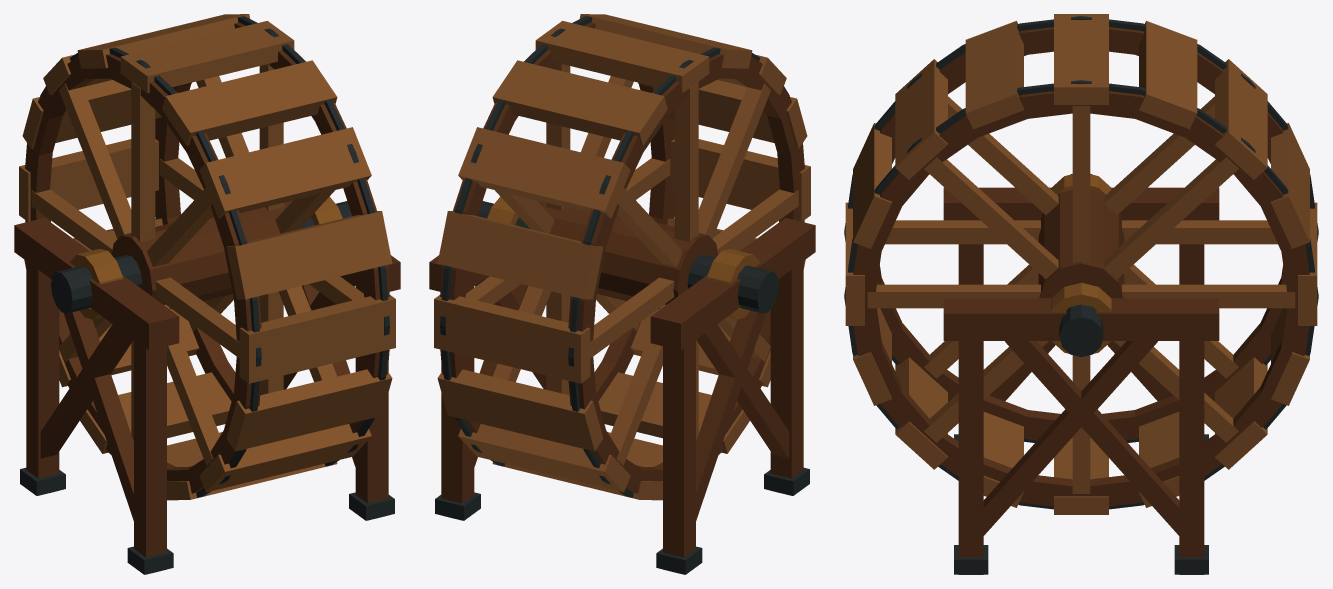
The model's file is vf_water_wheel.obj.
3 views of the same model, side by side, from view 1: azimuth 30°, elevation 25°; view 2: azimuth 150°, elevation 25°; view 3: azimuth 270°, elevation 25° (orthographic). The views are drawn at different scales.
Visible parts, largest first — view 1: Rotor_OakLight, Static_Oak, Rotor_Oak, Rotor_Iron, Static_Iron, Static_Bronze; view 2: Rotor_OakLight, Static_Oak, Rotor_Oak, Rotor_Iron, Static_Iron, Static_Bronze; view 3: Rotor_OakLight, Static_Oak, Rotor_Oak, Rotor_Iron, Static_Bronze, Static_Iron.
Part boxes in pixels (box(x1,y1,x2,y2)): Rotor_OakLight: box(19, 14, 395, 500); Static_Oak: box(14, 200, 400, 574); Rotor_Oak: box(25, 22, 389, 493); Rotor_Iron: box(40, 16, 389, 497); Static_Iron: box(20, 467, 394, 574); Static_Bronze: box(70, 196, 342, 319); Rotor_OakLight: box(434, 14, 810, 500); Static_Oak: box(429, 200, 815, 574); Rotor_Oak: box(440, 22, 804, 493); Rotor_Iron: box(440, 16, 789, 497); Static_Iron: box(435, 467, 809, 574); Static_Bronze: box(487, 196, 759, 319); Rotor_OakLight: box(845, 14, 1317, 514); Static_Oak: box(943, 187, 1219, 574); Rotor_Oak: box(853, 27, 1309, 506); Rotor_Iron: box(844, 16, 1318, 509); Static_Bronze: box(1051, 174, 1111, 353); Static_Iron: box(954, 434, 1208, 574).
Bounding box in the file's own units: 2.5 × 3.72 × 3.44.
